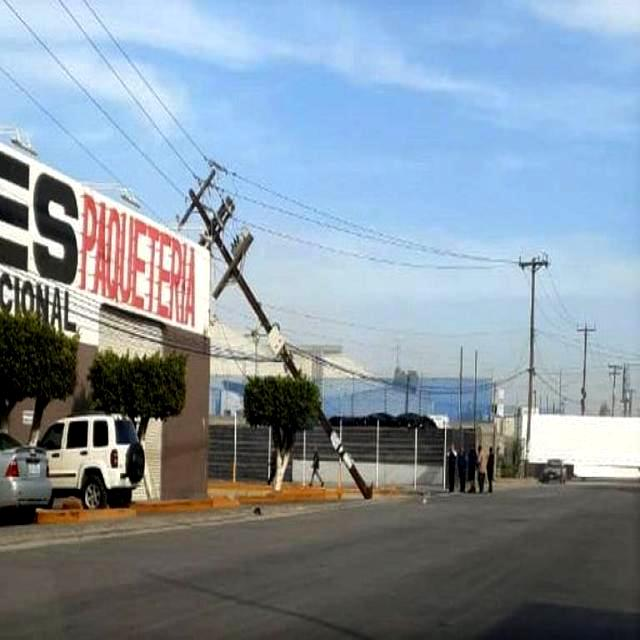Broken Pole: (176, 167, 374, 502)
